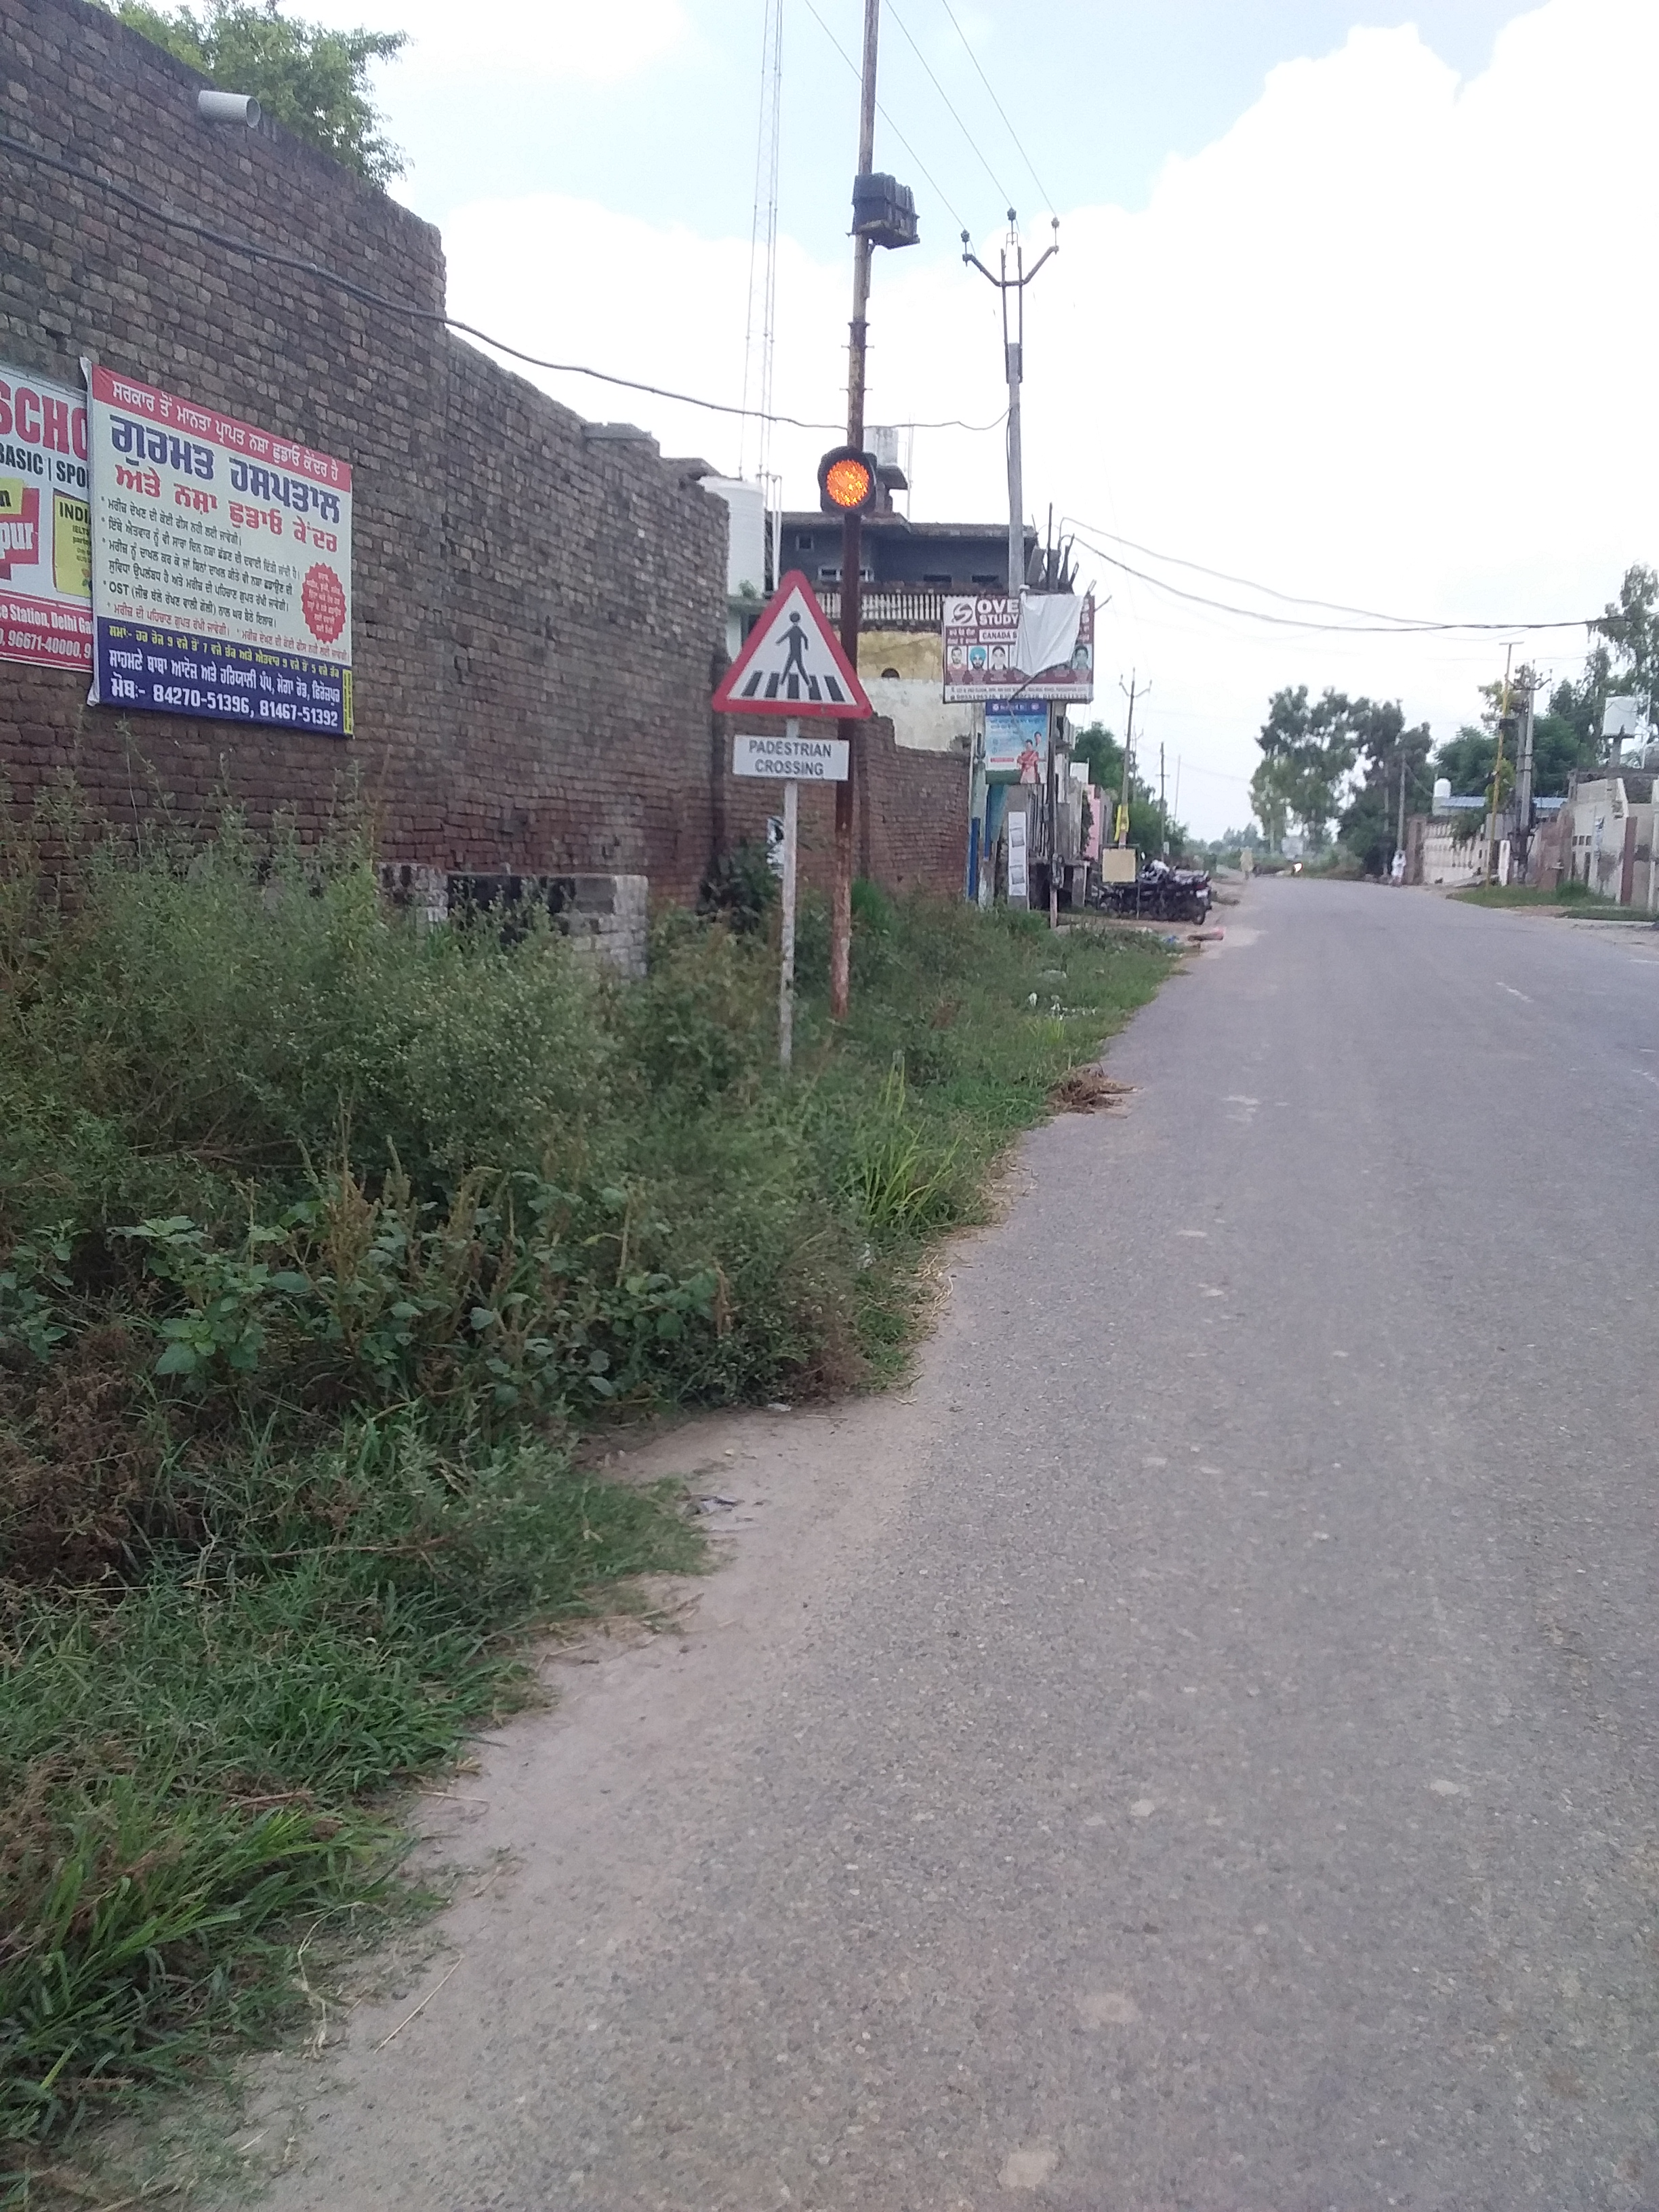traffic_sign: (706, 571, 878, 721), (814, 444, 884, 519)
